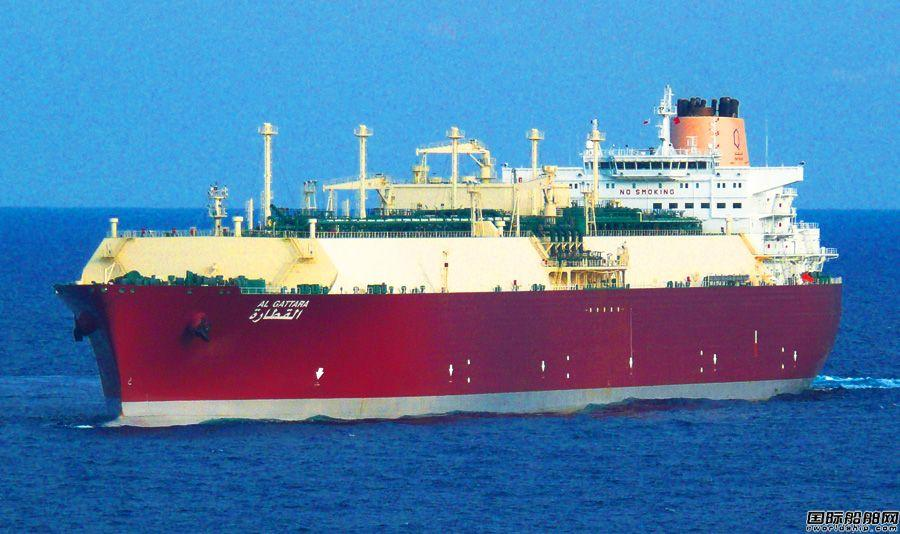Cargoship: (43, 90, 846, 428)
